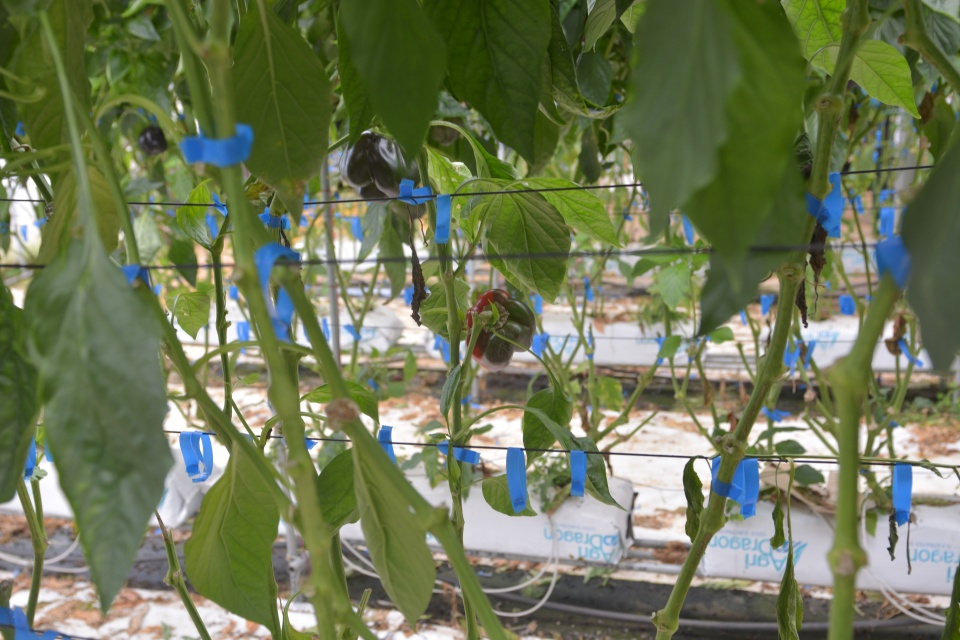fruit: (336, 122, 422, 204), (463, 287, 538, 372), (136, 123, 168, 157)
pedicle: (476, 300, 509, 332)
